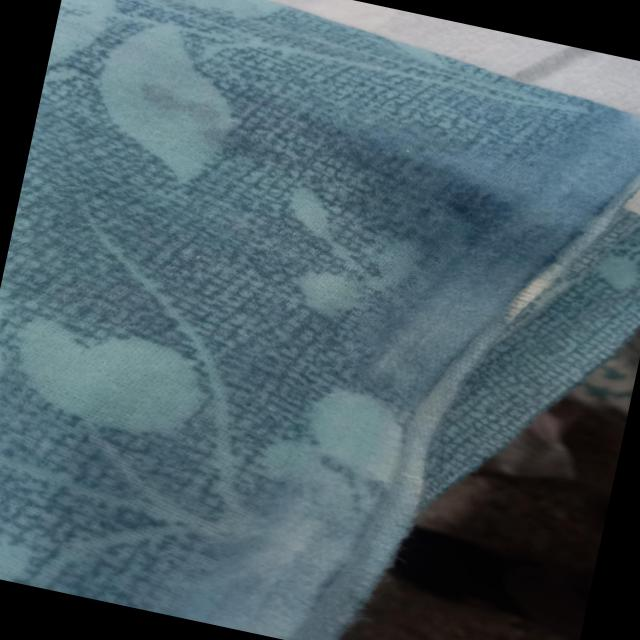baekra: (21, 70, 589, 640)
